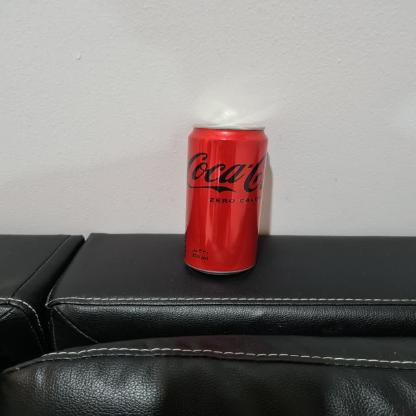Can: (177, 123, 269, 277)
